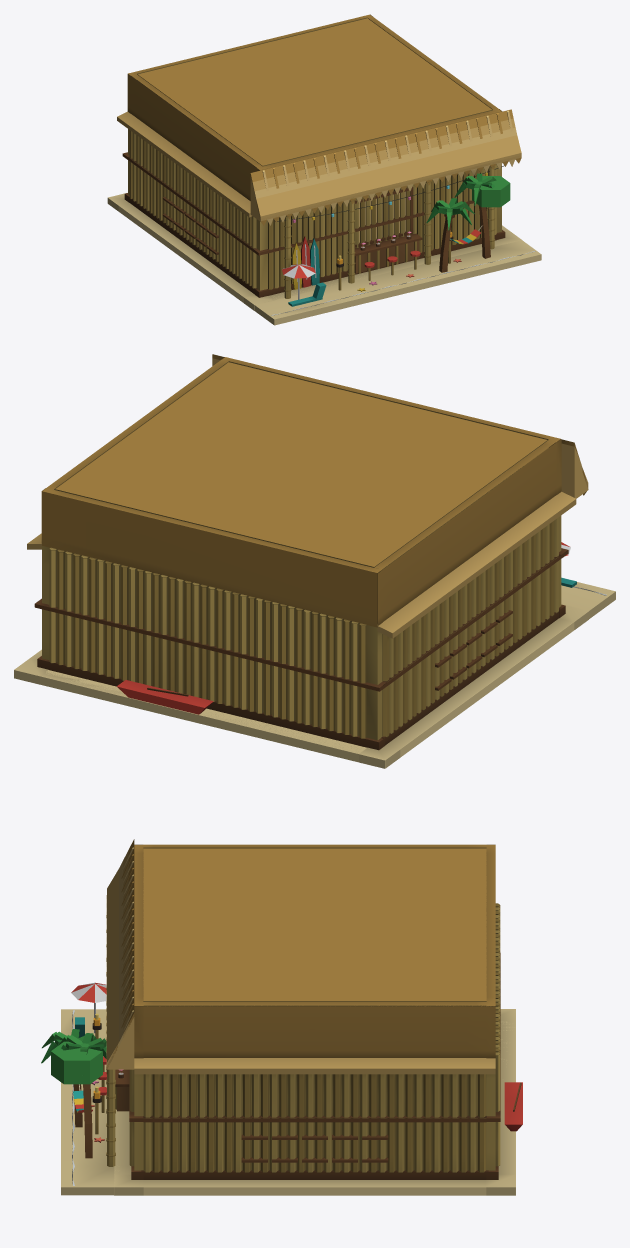
File: IslandTurtleFloor.fbx
3 renders of one model, top to bottom at view 1: azimuth 30°, elevation 25°; view 2: azimuth 150°, elevation 25°; view 3: azimuth 270°, elevation 25°, orthographic. The views are drawn at different scales.
Parts seen in each view (by area): view 1: IT_S_All, IT_F_Smooth, IT_F_Quiet, IT_F_Rings, IT_F_Props, IT_F_Glass; view 2: IT_S_All, IT_F_Smooth, IT_F_Quiet, IT_F_Rings; view 3: IT_S_All, IT_F_Smooth, IT_F_Quiet, IT_F_Rings, IT_F_Props.
Part boxes in pixels (x1=…): IT_S_All: x1=108, y1=18, x2=521, y2=310; IT_F_Smooth: x1=107, y1=110, x2=541, y2=325; IT_F_Quiet: x1=108, y1=14, x2=540, y2=319; IT_F_Rings: x1=117, y1=17, x2=516, y2=297; IT_F_Props: x1=282, y1=173, x2=494, y2=298; IT_F_Glass: x1=292, y1=172, x2=487, y2=264; IT_S_All: x1=14, y1=358, x2=588, y2=768; IT_F_Smooth: x1=14, y1=354, x2=615, y2=768; IT_F_Quiet: x1=14, y1=357, x2=615, y2=759; IT_F_Rings: x1=27, y1=361, x2=575, y2=750; IT_S_All: x1=51, y1=848, x2=515, y2=1195; IT_F_Smooth: x1=41, y1=847, x2=521, y2=1195; IT_F_Quiet: x1=61, y1=839, x2=515, y2=1187; IT_F_Rings: x1=117, y1=847, x2=522, y2=1179; IT_F_Props: x1=52, y1=982, x2=106, y2=1158.
Bounding box in the file's own units: 60 × 20 × 60.
